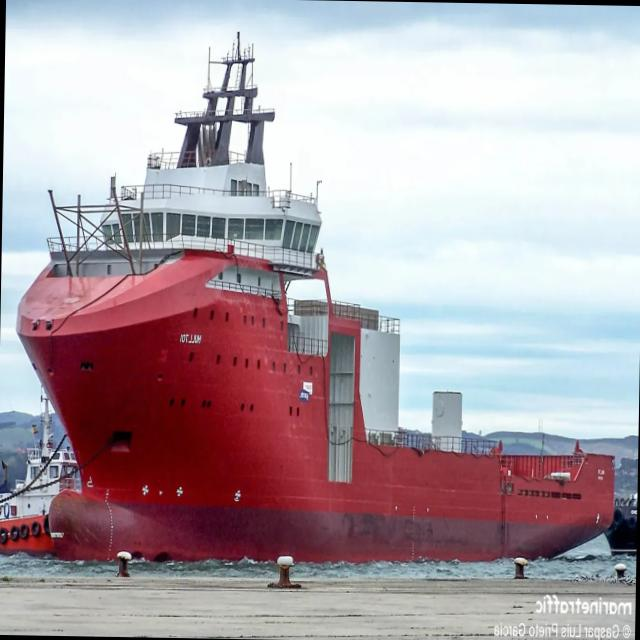Offshore: (16, 37, 614, 562)
